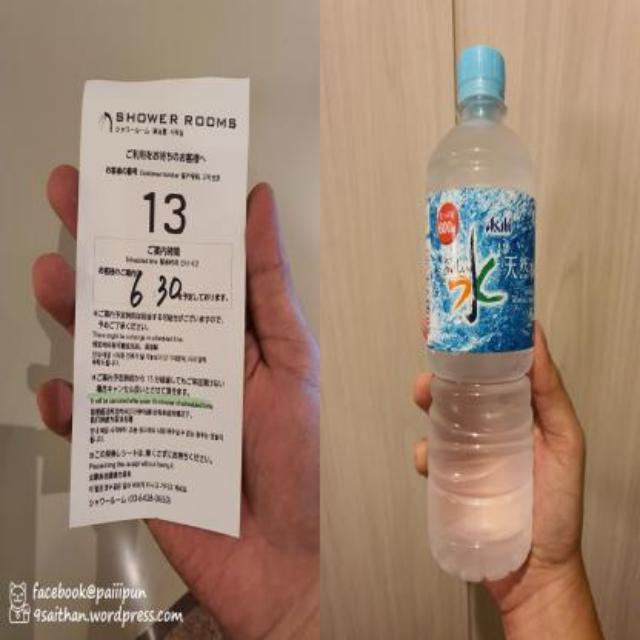bottle: (417, 36, 540, 586)
